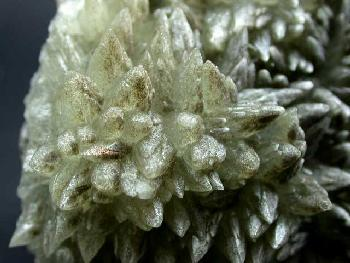calcite: (13, 7, 335, 263)
